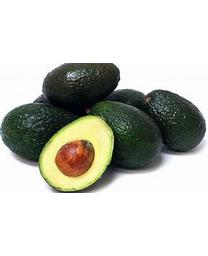avocado: (37, 114, 117, 192), (88, 99, 161, 172), (0, 102, 80, 163), (142, 89, 206, 155), (42, 63, 120, 109)
